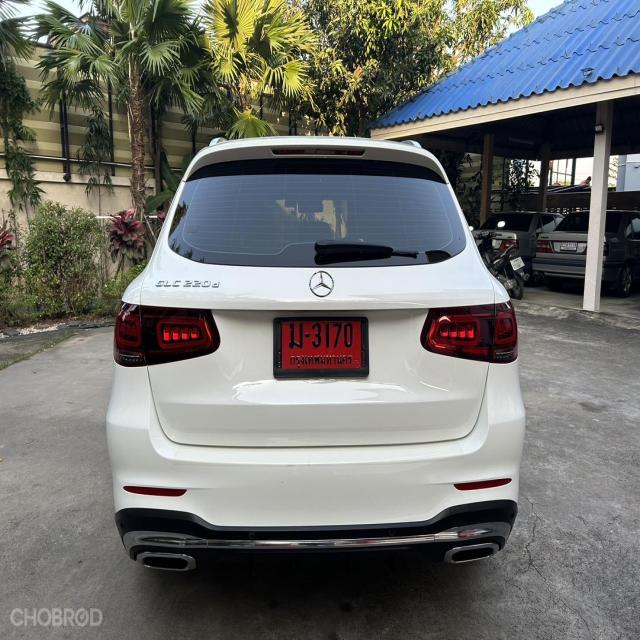license_plate: (272, 313, 371, 380)
